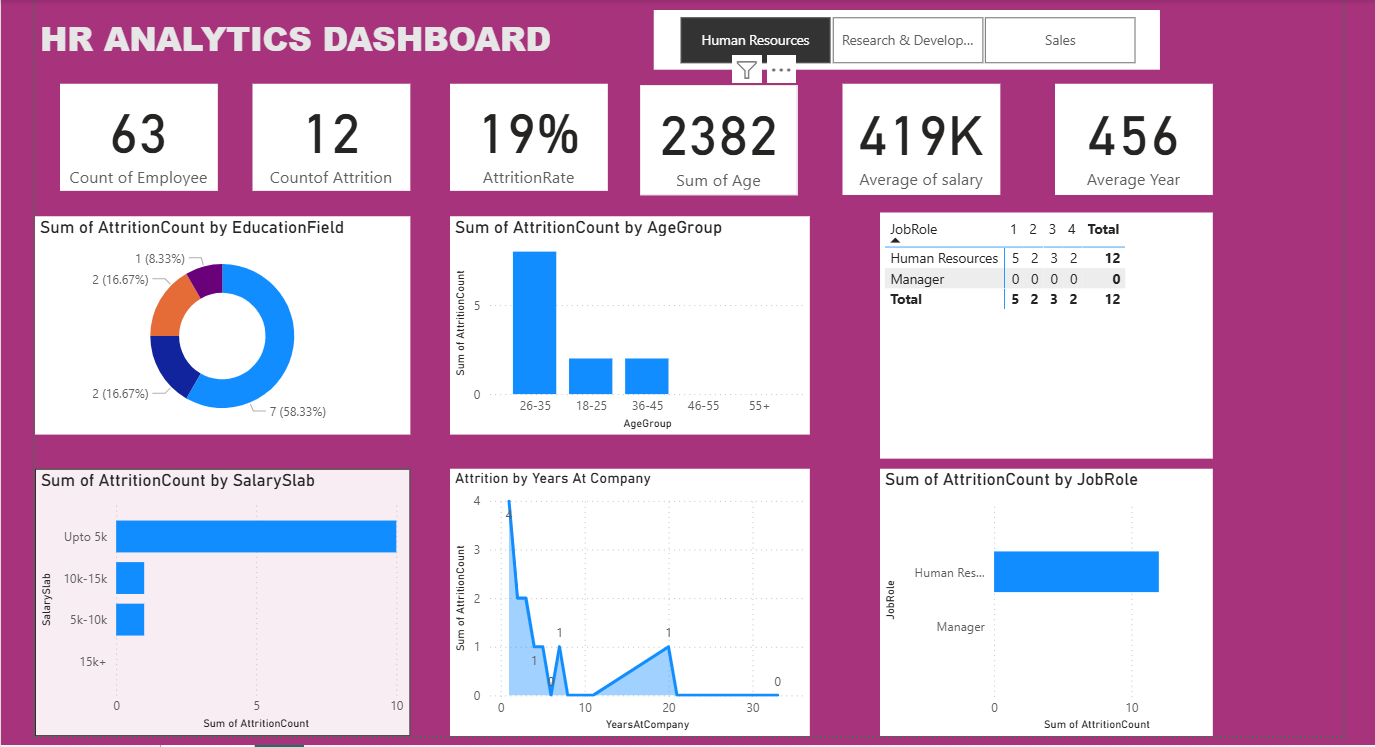

The dashboard page shown, as its layout file describes it:
{"tool":"powerbi","page":{"name":"Page 1","canvas":[1280,720],"ordinal":0},"visuals":[{"type":"textbox","box":[0,9.6,524.2,59],"z":0},{"type":"slicer","fields":{"Values":["HR_Analytics.Department"]},"box":[605.3,9.8,495.2,58.7],"z":1000},{"type":"card","fields":{"Values":["Sum(HR_Analytics.EmployeeCount)"]},"box":[24.5,81.9,154.1,105.2],"z":2000},{"type":"card","fields":{"Values":["Sum(HR_Analytics.AttritionCount)"]},"box":[212.8,81.9,154.1,105.2],"z":3000},{"type":"card","fields":{"Values":["HR_Analytics.AttritionRate"]},"box":[406,81.9,154.1,105.2],"z":4000},{"type":"card","fields":{"Values":["Sum(HR_Analytics.Age)"]},"box":[591.9,83.2,154.1,107.6],"z":5000},{"type":"card","fields":{"Values":["Sum(HR_Analytics.MonthlyIncome)"]},"box":[789.9,81.9,154.1,108.8],"z":6000},{"type":"card","fields":{"Values":["Sum(HR_Analytics.YearsAtCompany)"]},"box":[997.8,81.9,154.1,108.8],"z":7000},{"type":"donutChart","fields":{"Y":["Sum(HR_Analytics.AttritionCount)"],"Category":["HR_Analytics.EducationField"]},"box":[0,211.6,366.8,214],"z":8000},{"type":"columnChart","fields":{"Category":["HR_Analytics.AgeGroup"],"Y":["Sum(HR_Analytics.AttritionCount)"]},"box":[406,211.6,352.2,214],"z":9000},{"type":"pivotTable","fields":{"Values":["Sum(HR_Analytics.AttritionCount)"],"Rows":["HR_Analytics.JobRole"],"Columns":["HR_Analytics.JobSatisfaction"]},"box":[826.6,207.9,325.3,240.9],"z":10000},{"type":"barChart","fields":{"Category":["HR_Analytics.SalarySlab"],"Y":["Sum(HR_Analytics.AttritionCount)"]},"box":[0,458.6,366.8,261.7],"z":11000},{"type":"areaChart","title":"Attrition by Years At Company","fields":{"Y":["Sum(HR_Analytics.AttritionCount)"],"Category":["HR_Analytics.YearsAtCompany"]},"box":[406,458.6,352.2,261.7],"z":12000},{"type":"barChart","fields":{"Category":["HR_Analytics.JobRole"],"Y":["Sum(HR_Analytics.AttritionCount)"]},"box":[826.6,458.6,325.3,261.7],"z":13000}]}

Visuals, with their boxes in screenshot pixels (x1, y1, x2, y2):
textbox: x1=29, y1=6, x2=566, y2=67
slicer - HR_Analytics.Department: x1=649, y1=6, x2=1157, y2=67
card - Sum(HR_Analytics.EmployeeCount): x1=54, y1=80, x2=212, y2=188
card - Sum(HR_Analytics.AttritionCount): x1=247, y1=80, x2=405, y2=188
card - HR_Analytics.AttritionRate: x1=445, y1=80, x2=603, y2=188
card - Sum(HR_Analytics.Age): x1=635, y1=82, x2=793, y2=192
card - Sum(HR_Analytics.MonthlyIncome): x1=838, y1=80, x2=996, y2=192
card - Sum(HR_Analytics.YearsAtCompany): x1=1051, y1=80, x2=1209, y2=192
donutChart - Sum(HR_Analytics.AttritionCount) x HR_Analytics.EducationField: x1=29, y1=213, x2=405, y2=433
columnChart - HR_Analytics.AgeGroup x Sum(HR_Analytics.AttritionCount): x1=445, y1=213, x2=806, y2=433
pivotTable - Sum(HR_Analytics.AttritionCount) x HR_Analytics.JobRole: x1=876, y1=210, x2=1209, y2=456
barChart - HR_Analytics.SalarySlab x Sum(HR_Analytics.AttritionCount): x1=29, y1=467, x2=405, y2=735
"Attrition by Years At Company" areaChart: x1=445, y1=467, x2=806, y2=735
barChart - HR_Analytics.JobRole x Sum(HR_Analytics.AttritionCount): x1=876, y1=467, x2=1209, y2=735
